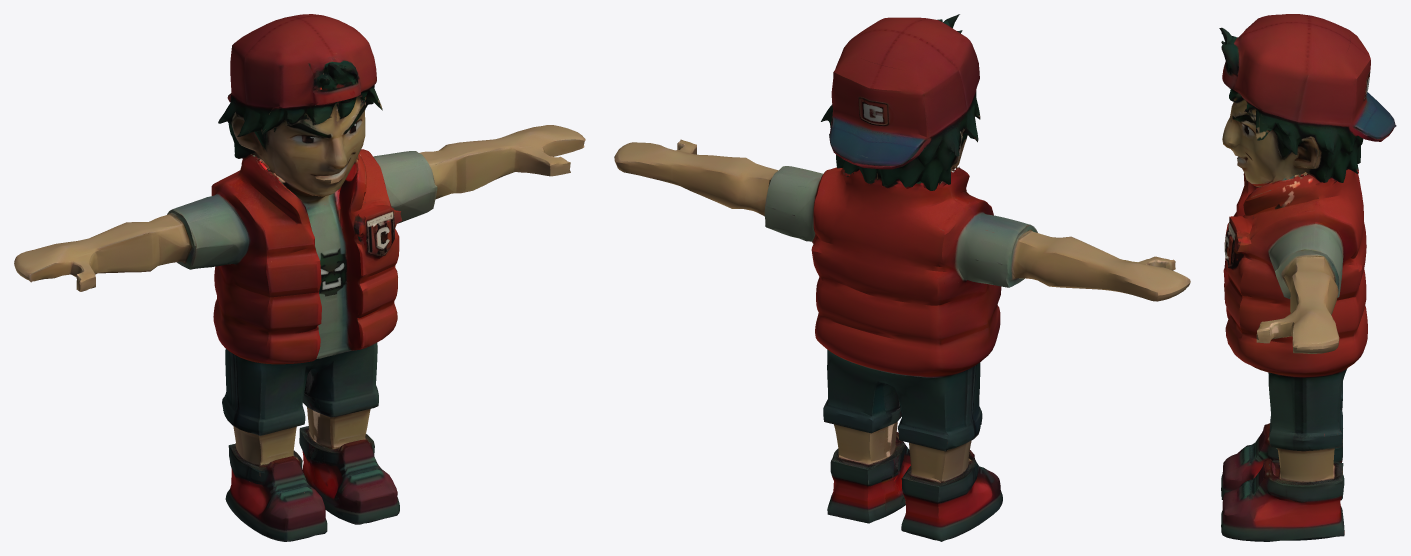
Rendered from Meshy_AI_Blocky_Hero_in_a_Red__0528171230_image-to-3d-texture.obj.
The picture shows the model from 3 angles, left to right: view 1: azimuth 30°, elevation 25°; view 2: azimuth 150°, elevation 25°; view 3: azimuth 270°, elevation 25°; orthographic projection.
Visible parts, largest first — view 1: Meshy_AI_Blocky_Hero_in_a_Red__0528171230_image-to-3d-texture; view 2: Meshy_AI_Blocky_Hero_in_a_Red__0528171230_image-to-3d-texture; view 3: Meshy_AI_Blocky_Hero_in_a_Red__0528171230_image-to-3d-texture.
Part boxes in pixels (box(x1,y1,x2,y2)): Meshy_AI_Blocky_Hero_in_a_Red__0528171230_image-to-3d-texture: box(14, 14, 585, 541); Meshy_AI_Blocky_Hero_in_a_Red__0528171230_image-to-3d-texture: box(614, 14, 1190, 541); Meshy_AI_Blocky_Hero_in_a_Red__0528171230_image-to-3d-texture: box(1219, 14, 1396, 541).
Bounding box in the file's own units: 1.91 × 1.56 × 0.5172.
Materials: 1 (1 with a texture image).
